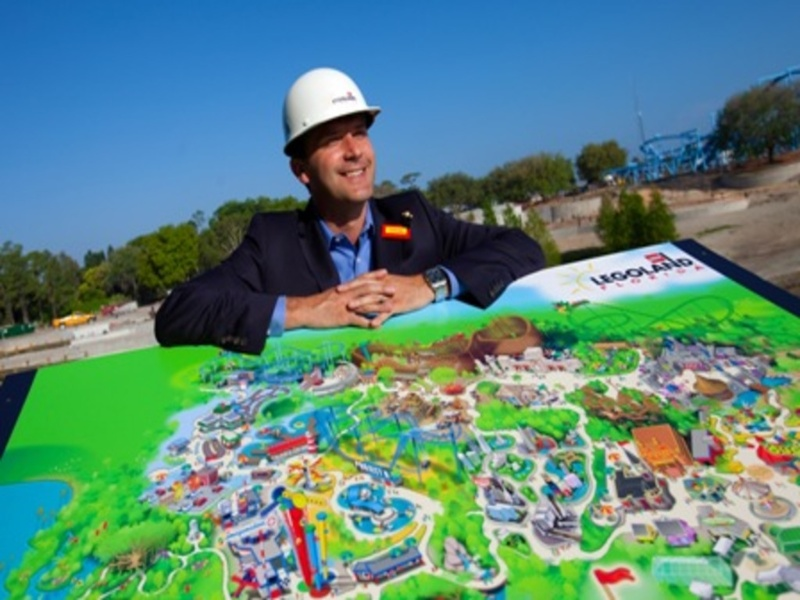Baret: (284, 67, 381, 142)
